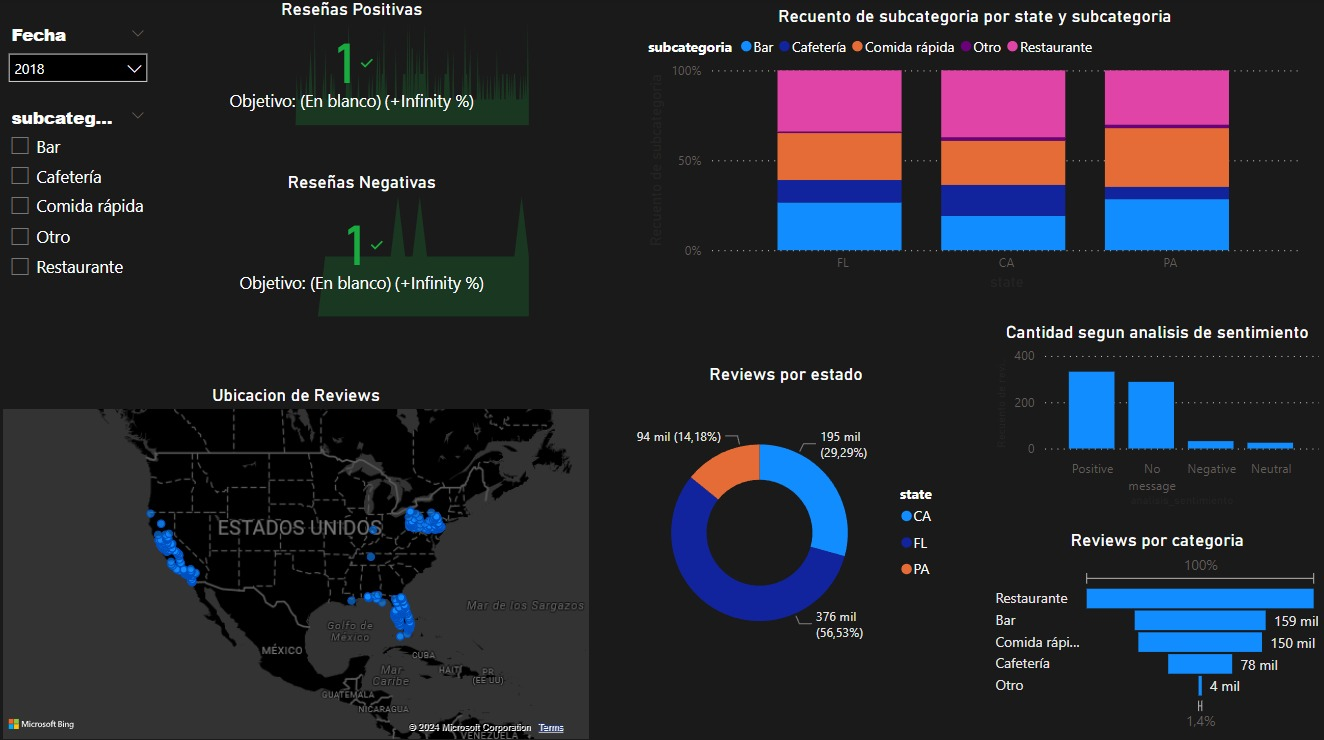

The dashboard page shown, as its layout file describes it:
{"tool":"powerbi","page":{"name":"Página 1","canvas":[1280,720],"ordinal":0},"visuals":[{"type":"donutChart","title":"Reviews por estado","fields":{"Series":["Locales.state"],"Y":["Sum(Locales.review_count)"]},"box":[594.6,352.2,331.7,308.7],"z":0},{"type":"map","title":"Ubicacion de Reviews","fields":{"Y":["Locales.latitude"],"X":["Locales.longitude"]},"box":[0,372.7,575.3,347.3],"z":1000},{"type":"hundredPercentStackedColumnChart","fields":{"Category":["Locales.state"],"Series":["Locales.subcategoria"],"Y":["CountNonNull(Locales.subcategoria)"]},"box":[622.3,7.2,640.4,279.8],"z":2000},{"type":"funnel","title":"Reviews por categoria","fields":{"Category":["Locales.subcategoria"],"Y":["Sum(Locales.review_count)"]},"box":[957.6,512.6,322,199],"z":3000},{"type":"clusteredColumnChart","title":"Cantidad segun analisis de sentimiento","fields":{"Category":["Reviews.analisis_sentimiento"],"Y":["CountNonNull(Reviews.review_id)"]},"box":[957.6,312.4,322,183.3],"z":4000},{"type":"slicer","fields":{"Values":["Calendario.Date.Variación.Jerarquía de fechas.Año","Calendario.Date.Variación.Jerarquía de fechas.Trimestre"]},"box":[0,19.6,154,69.7],"z":5000},{"type":"slicer","fields":{"Values":["Locales.subcategoria"]},"box":[0,99,154,213.9],"z":6000},{"type":"kpi","title":"Reseñas Positivas","fields":{"Indicator":["Reviews.RP"],"Goal":["Reviews.RP_Anterior"],"TrendLine":["Reviews.date"]},"box":[165.2,0,352.2,127.8],"z":7000},{"type":"kpi","title":"Reseñas Negativas","fields":{"Goal":["Reviews.RN_Anterior"],"Indicator":["Reviews.Rn"],"TrendLine":["Reviews.date"]},"box":[184.5,167.6,332.9,144.7],"z":8000}]}

Visuals, with their boxes in screenshot pixels (x1, y1, x2, y2), scaled from the page's 1280x720 canvas onto the 1324x740 screenshot:
"Reviews por estado" donutChart: (615, 362, 958, 679)
"Ubicacion de Reviews" map: (0, 383, 595, 739)
hundredPercentStackedColumnChart - Locales.state x Locales.subcategoria: (644, 7, 1306, 295)
"Reviews por categoria" funnel: (991, 527, 1323, 731)
"Cantidad segun analisis de sentimiento" clusteredColumnChart: (991, 321, 1323, 509)
slicer - Calendario.Date.Variación.Jerarquía de fechas.Año x Calendario.Date.Variación.Jerarquía de fechas.Trimestre: (0, 20, 159, 92)
slicer - Locales.subcategoria: (0, 102, 159, 322)
"Reseñas Positivas" kpi: (171, 0, 535, 131)
"Reseñas Negativas" kpi: (191, 172, 535, 321)
